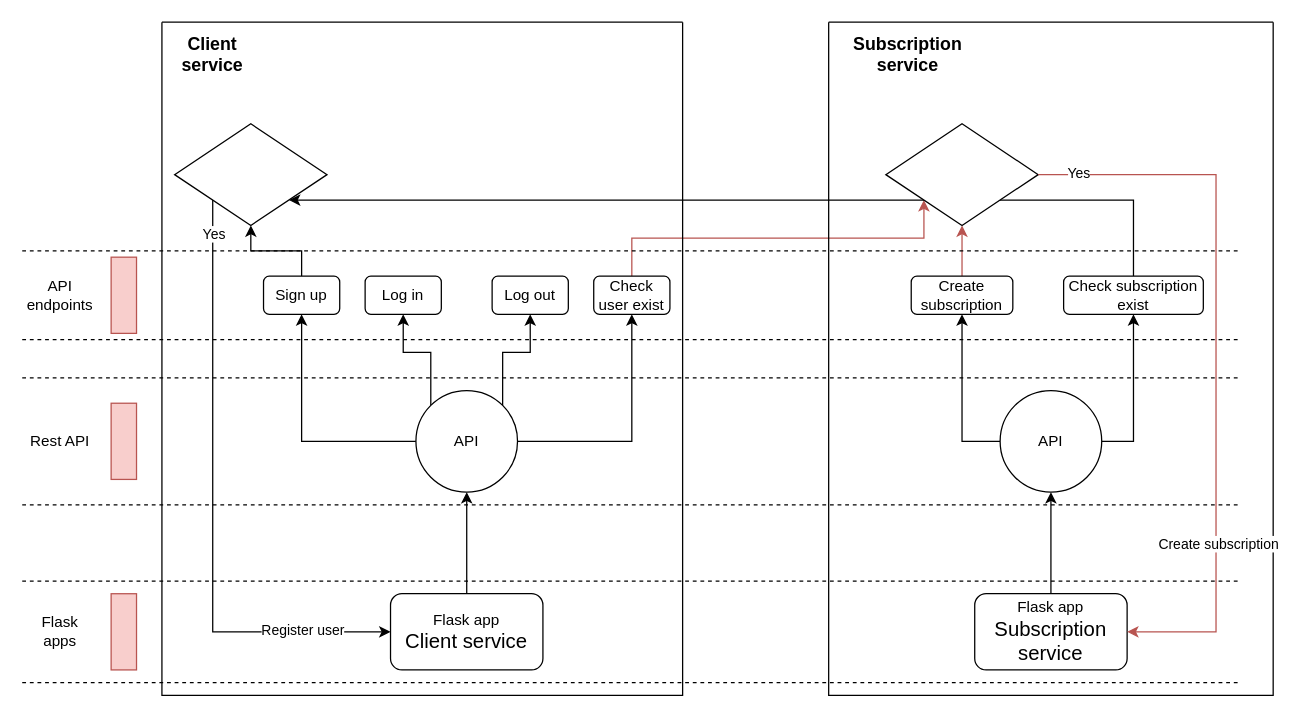
Image size: 1300x718. Some labels were removed from this diagram. Each missing label, with the centre of its shape:
Subscription exist: point 250,174
User exist: point 961,174
